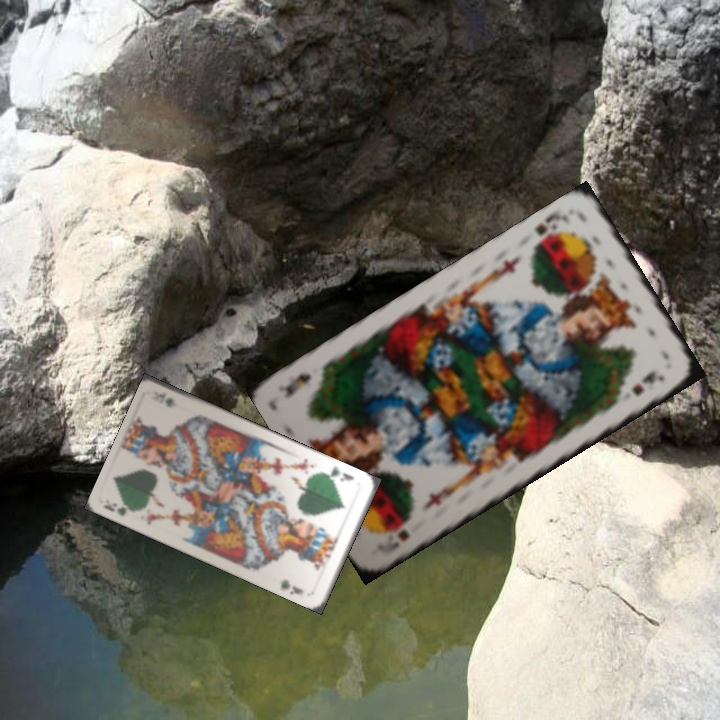GK: (101, 498, 143, 519), (322, 462, 356, 484)
SK: (530, 207, 573, 252), (372, 526, 412, 555)
